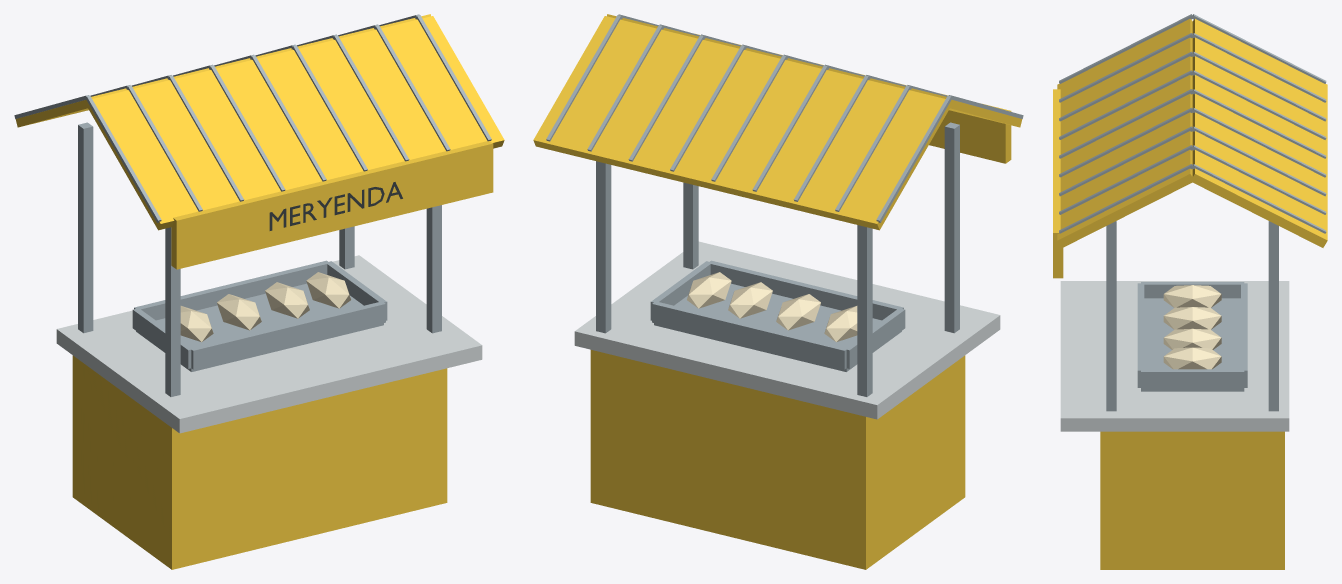
The model's file is TR_Kiosk_MERYENDA.glb.
3 views of the same model, side by side, from view 1: azimuth 30°, elevation 25°; view 2: azimuth 150°, elevation 25°; view 3: azimuth 270°, elevation 25° (orthographic). The views are drawn at different scales.
Visible parts, largest first — view 1: TR_Kiosk_MERYENDA; view 2: TR_Kiosk_MERYENDA; view 3: TR_Kiosk_MERYENDA.
Boxes of the visible parts, x1,y1,x2,y2 form: TR_Kiosk_MERYENDA: (14, 14, 504, 569); TR_Kiosk_MERYENDA: (533, 14, 1023, 569); TR_Kiosk_MERYENDA: (1053, 14, 1327, 569).
Bounding box in the file's own units: 2.51 × 3.1 × 1.87.
